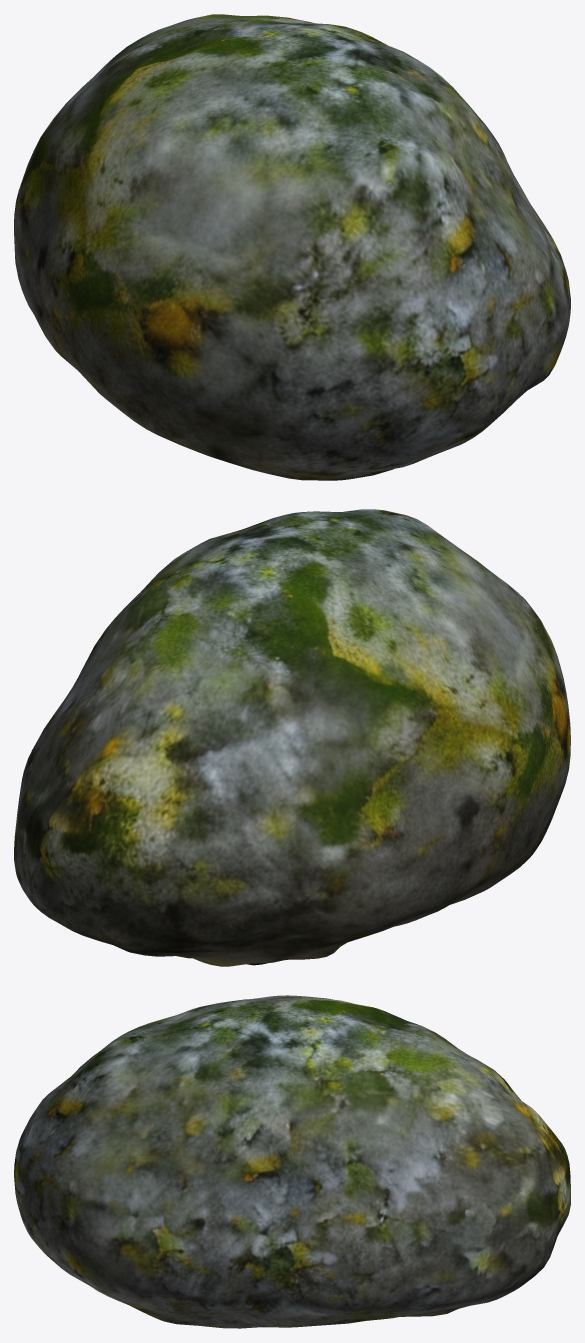
Rendered from boulder_textured.glb.
3 views of the same model, one above another, from view 1: azimuth 30°, elevation 25°; view 2: azimuth 150°, elevation 25°; view 3: azimuth 270°, elevation 25° (orthographic). The views are drawn at different scales.
Visible parts, largest first — view 1: temp_mesh.ply; view 2: temp_mesh.ply; view 3: temp_mesh.ply.
Boxes of the visible parts, box(x1,y1,x2,y2) form: temp_mesh.ply: box(14, 14, 570, 480); temp_mesh.ply: box(14, 509, 570, 966); temp_mesh.ply: box(14, 995, 570, 1328).
Bounding box in the file's own units: 1.45 × 1.11 × 2.
Materials: 1 (1 with a texture image).
